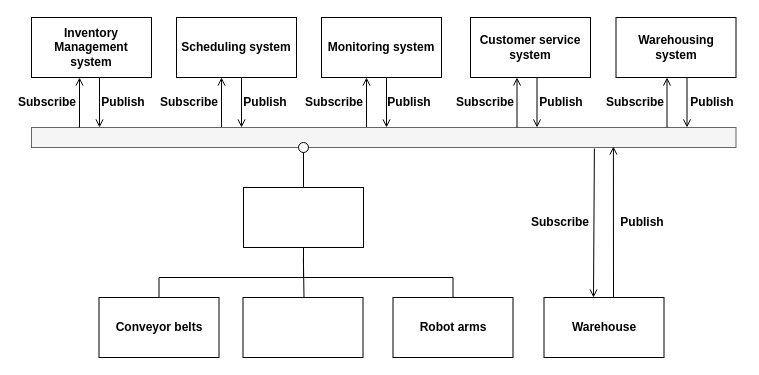
Some shapes in this 759 by 375 pixel diagram are drawn without their labels. Each missing label, with the centre of its shape:
"IoT" goes at pixel 302 327.
"Message bus (Kafka)" goes at pixel 383 137.
"Production Broker (MQTT)" goes at pixel 303 217.
